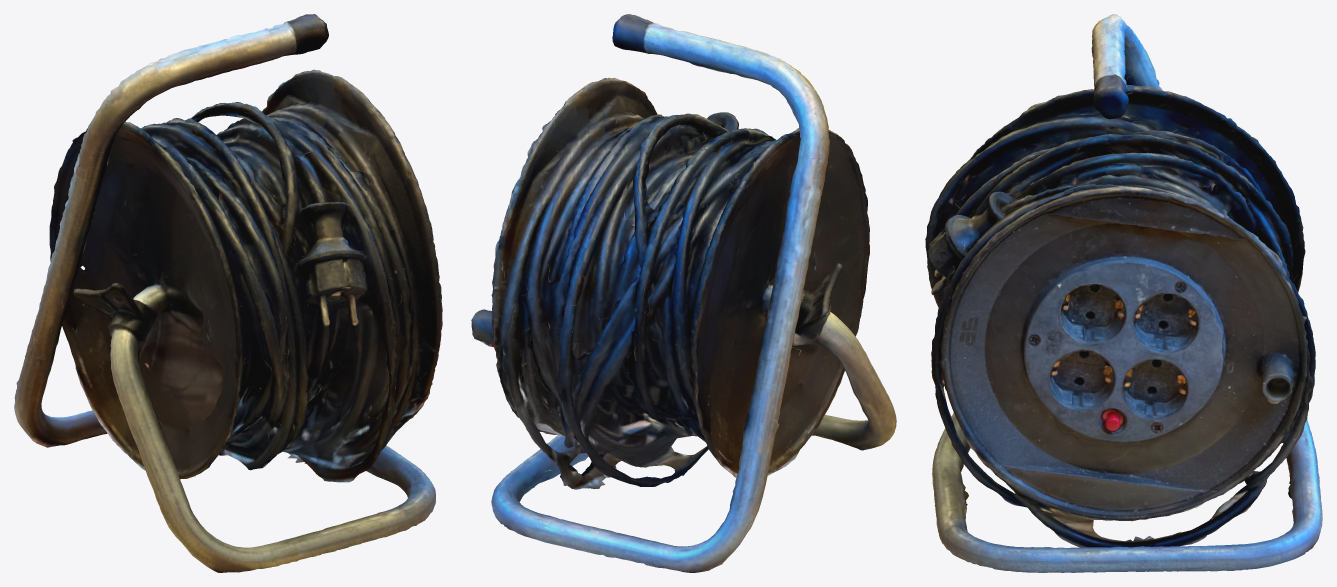
The model's file is cable_drum.glb.
3 renders of one model, left to right at view 1: azimuth 30°, elevation 25°; view 2: azimuth 150°, elevation 25°; view 3: azimuth 270°, elevation 25°, orthographic. The views are drawn at different scales.
Visible parts, largest first — view 1: Object_4, Object_5; view 2: Object_4, Object_5; view 3: Object_4, Object_5.
Part boxes in pixels (<box>): Object_4: <box>14,14,442,572</box>; Object_5: <box>26,14,424,572</box>; Object_4: <box>471,14,896,572</box>; Object_5: <box>491,14,896,554</box>; Object_4: <box>925,14,1322,572</box>; Object_5: <box>929,14,1316,572</box>.
Size of the model in its own units: 0.2066 by 0.307 by 0.2431.
1 material, 1 textured.
